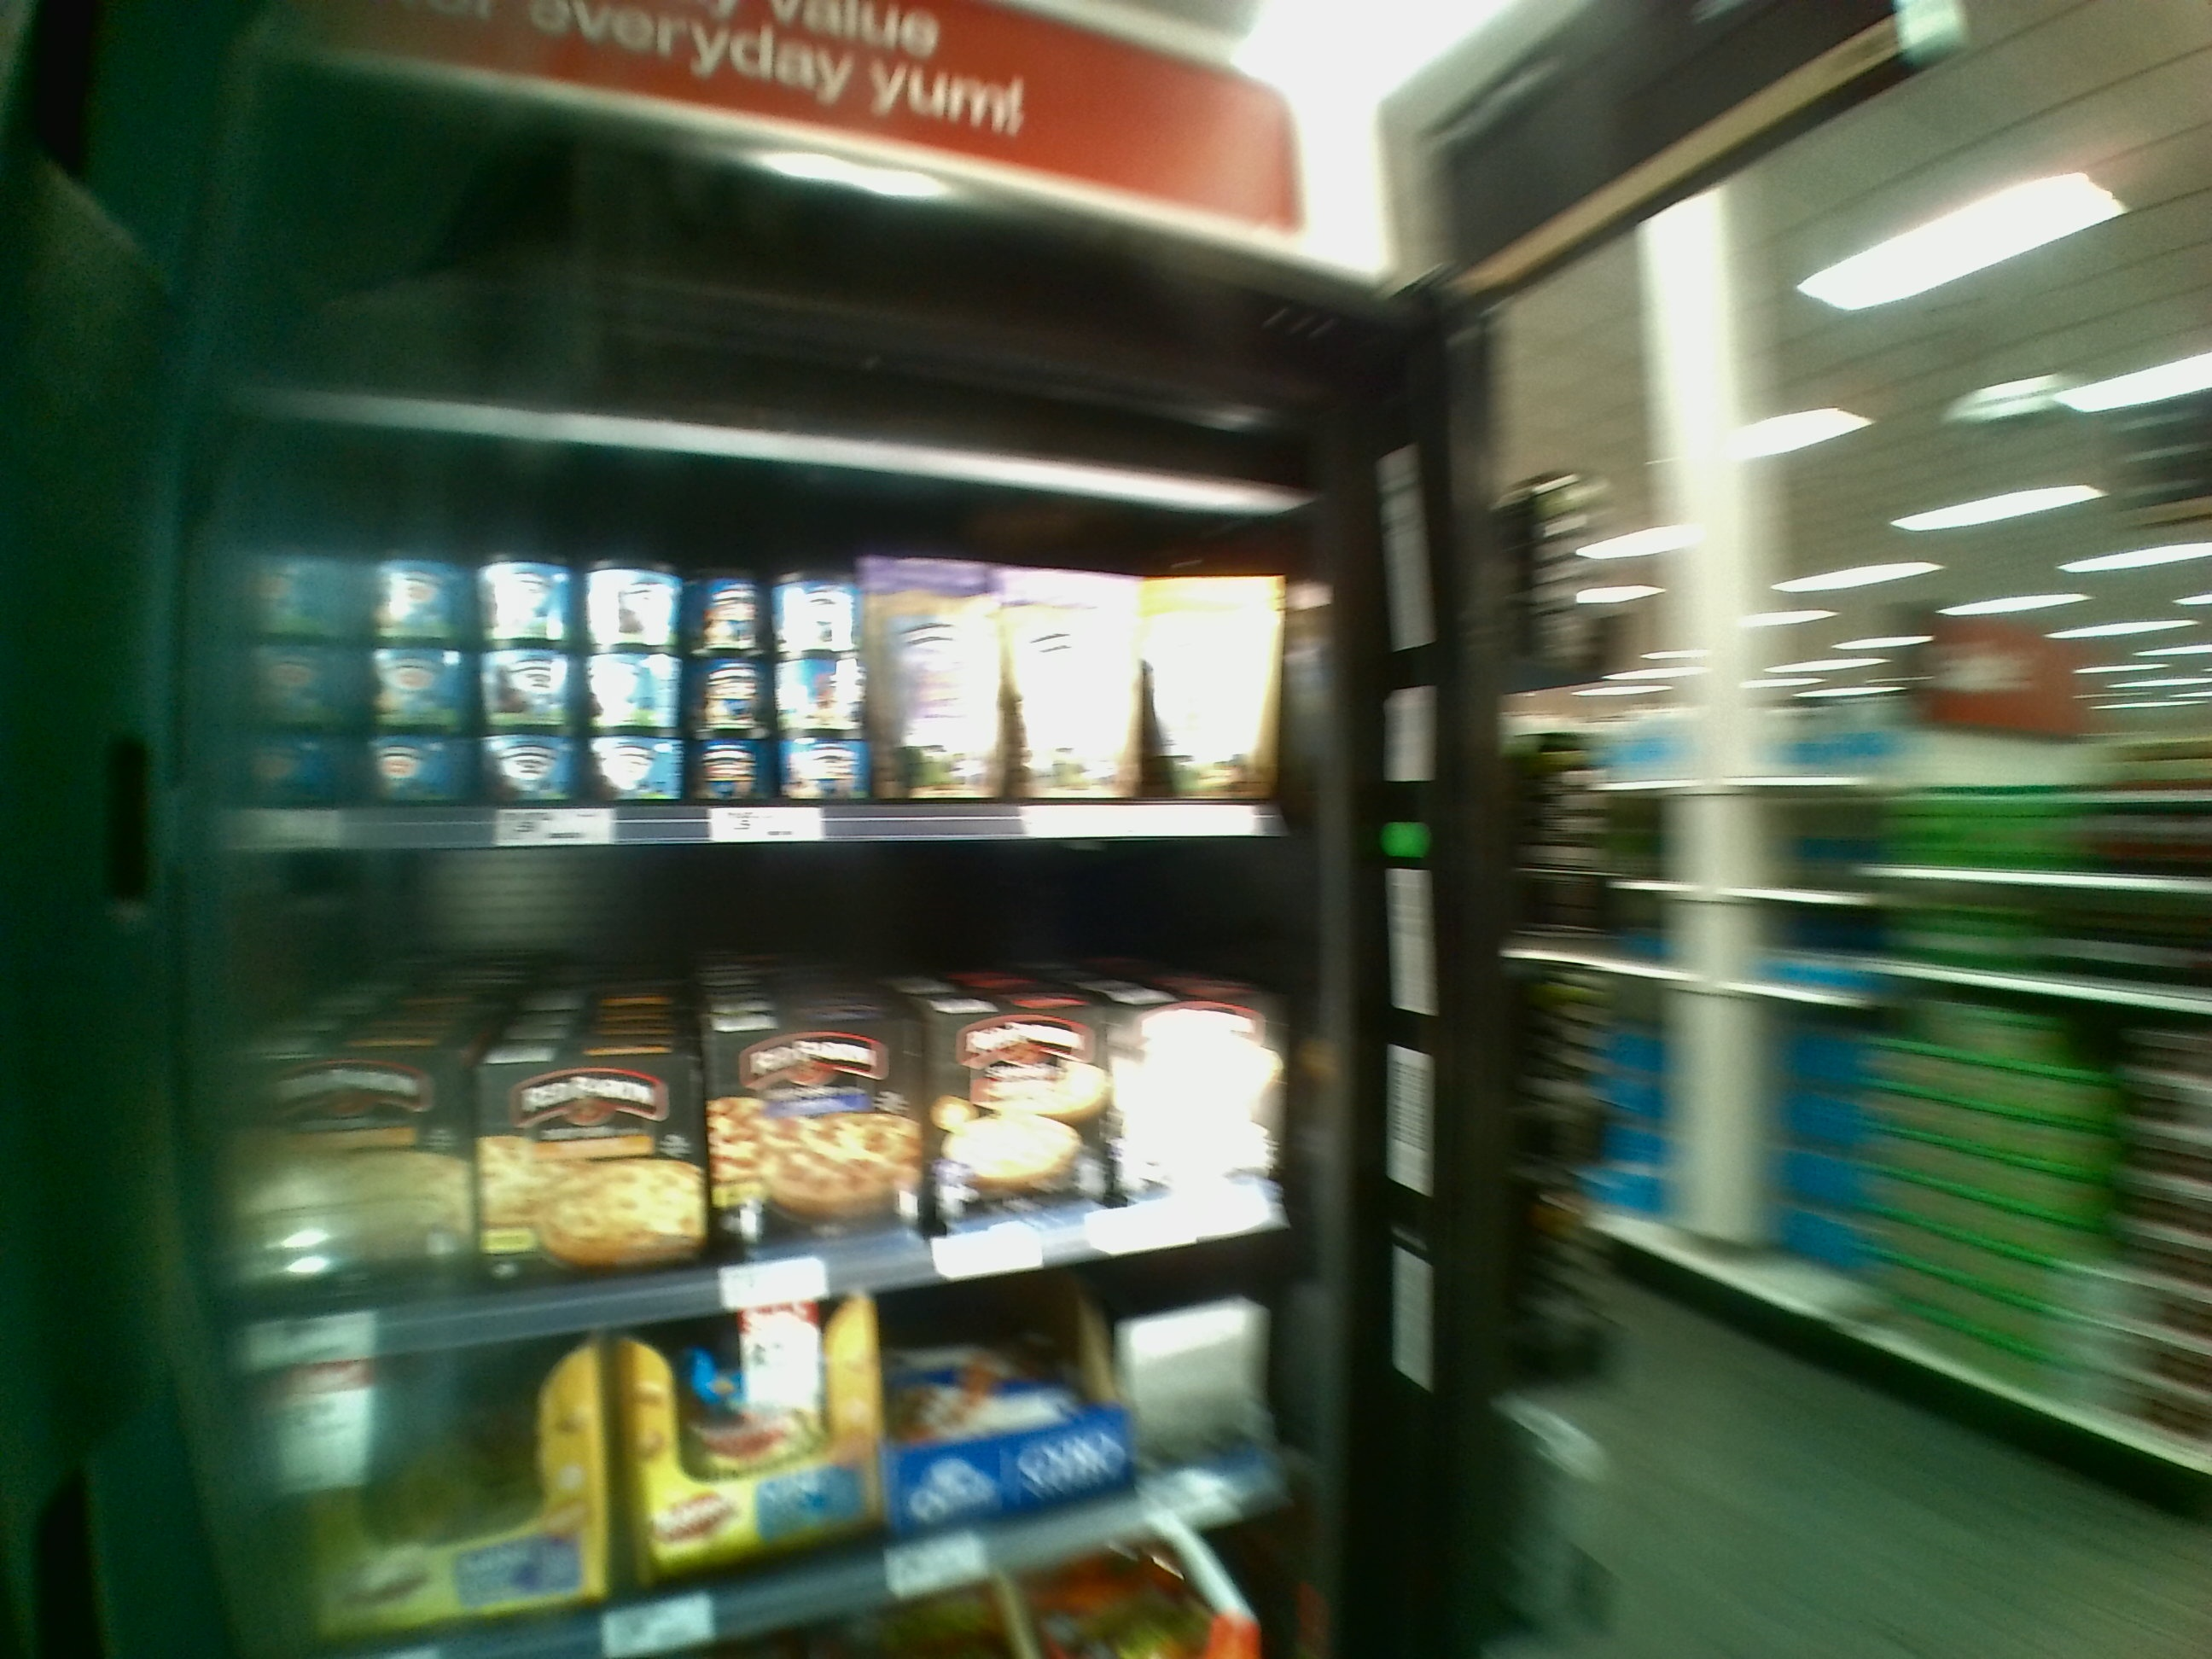shelf: (218, 857, 1291, 1326), (216, 493, 1310, 842)
